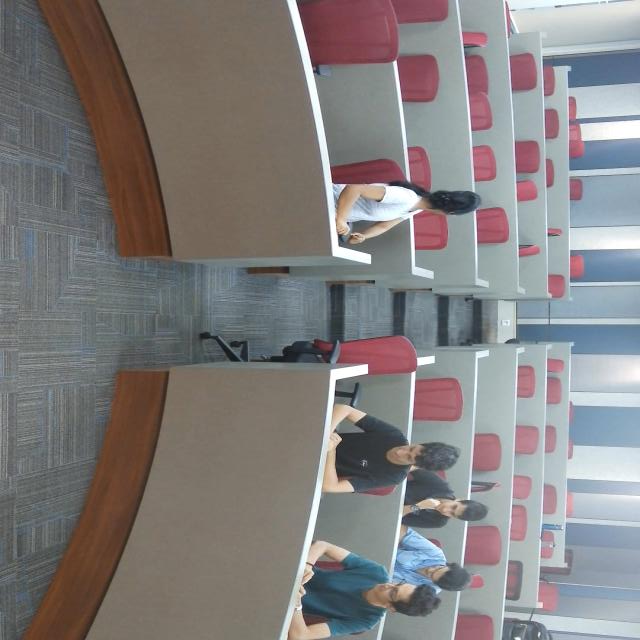cheating: (542, 211, 640, 357), (162, 162, 248, 324)
non-cheating: (412, 181, 492, 325)
